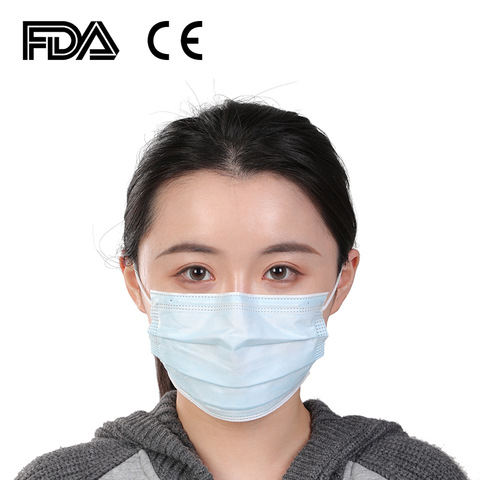mask: (133, 281, 348, 422)
